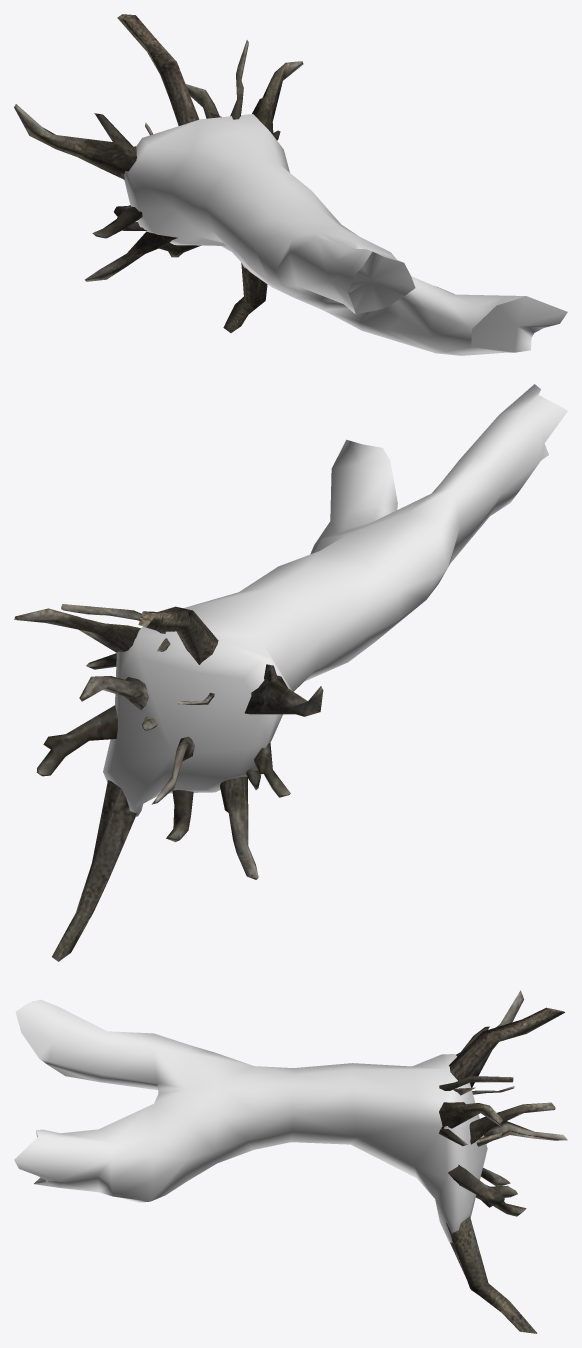
Rendered from hd_env_UNI_073_BurntTreeStump_01.fbx.
3 renders of one model, top to bottom at view 1: azimuth 30°, elevation 25°; view 2: azimuth 150°, elevation 25°; view 3: azimuth 270°, elevation 25°, orthographic. The views are drawn at different scales.
Visible parts, largest first — view 1: set_0_group_0, set_0_group_1; view 2: set_0_group_0, set_0_group_1; view 3: set_0_group_0, set_0_group_1.
Boxes of the visible parts, <box> form: set_0_group_0: <box>124,114,567,355</box>; set_0_group_1: <box>14,14,303,332</box>; set_0_group_0: <box>103,384,567,816</box>; set_0_group_1: <box>14,604,323,961</box>; set_0_group_0: <box>14,999,487,1242</box>; set_0_group_1: <box>439,990,567,1333</box>.
Size of the model in its own units: 212 by 238 by 415.
